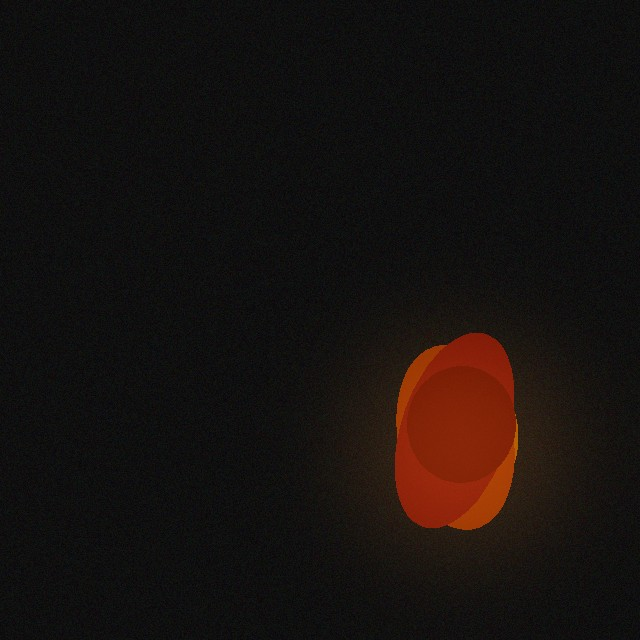fire: (391, 383, 529, 511)
